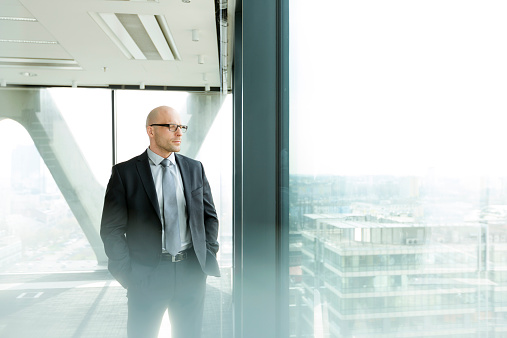em pe: (99, 98, 205, 338)
